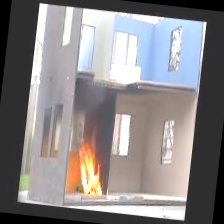fire: (70, 139, 111, 202)
